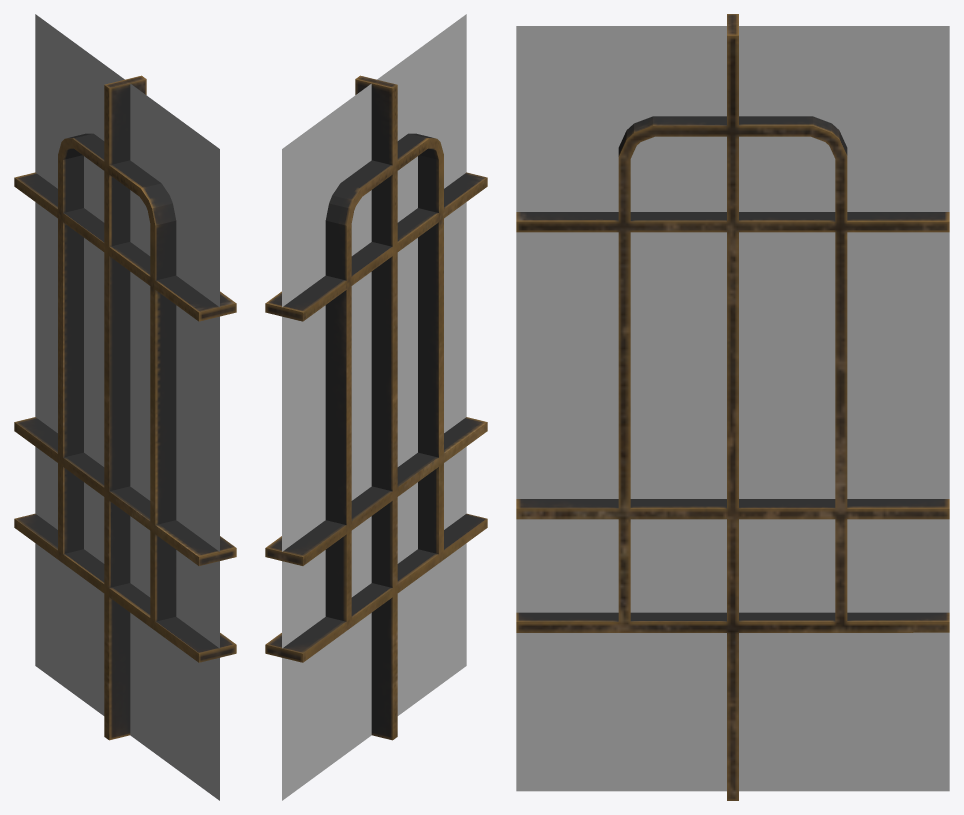
File: SM_WindowNoFrame.fbx
3 renders of one model, left to right at view 1: azimuth 30°, elevation 25°; view 2: azimuth 150°, elevation 25°; view 3: azimuth 270°, elevation 25°, orthographic. The views are drawn at different scales.
Parts seen in each view (by area): view 1: SM_WindowNoFrame_LOD0; view 2: SM_WindowNoFrame_LOD0; view 3: SM_WindowNoFrame_LOD0.
Boxes of the visible parts, x1,y1,x2,y2 form: SM_WindowNoFrame_LOD0: (14, 14, 236, 800); SM_WindowNoFrame_LOD0: (265, 14, 487, 800); SM_WindowNoFrame_LOD0: (516, 14, 949, 800).
Bounding box in the file's own units: 15.49 × 132 × 257.
2 materials, 1 textured.
